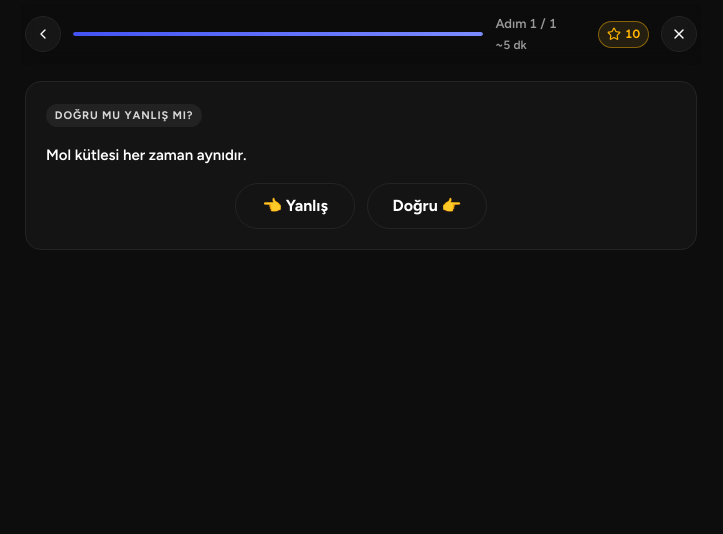
Test: ExamLessonSteps — checkFirst (retrieval-practice ordering) › still grades correctly when checkFirst is true
This screenshot has width=723, height=534.
Click the button "👈 Yanlış" at [295, 206], box [235,183,355,229]
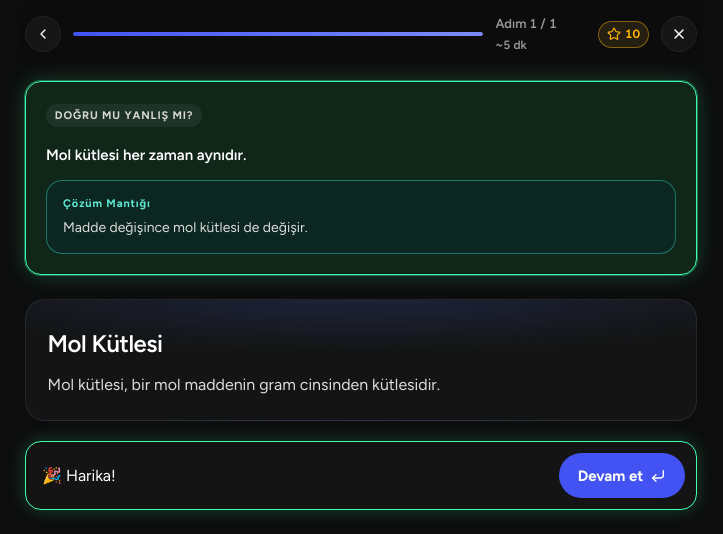
Expected: the text "🎉 Harika!" is shown, [42,464,116,488]
